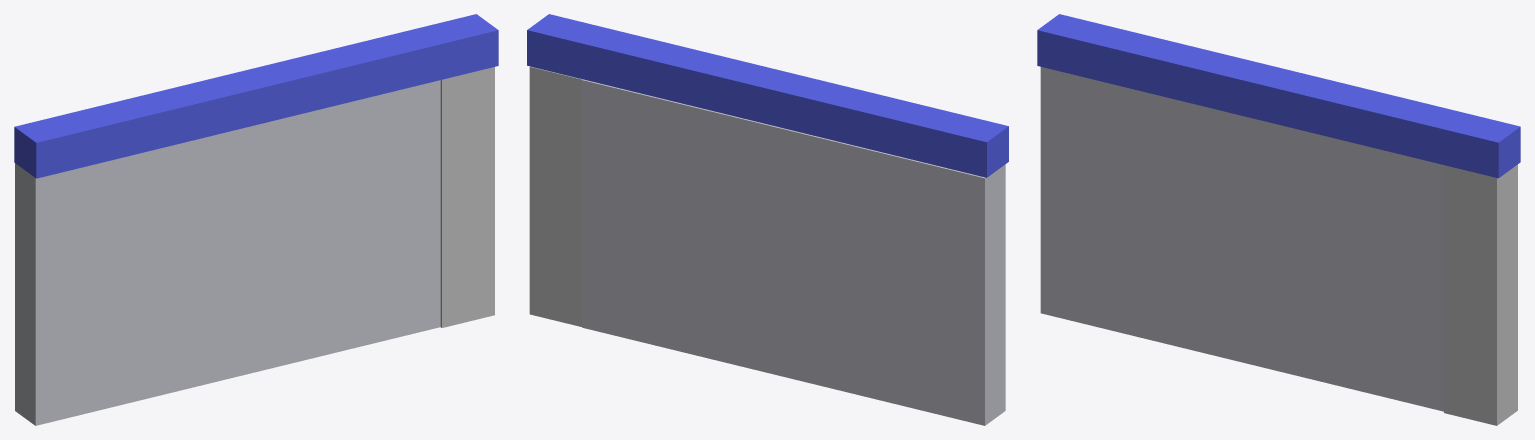
File: window_icon.glb
3 views of the same model, side by side, from view 1: azimuth 30°, elevation 25°; view 2: azimuth 150°, elevation 25°; view 3: azimuth 330°, elevation 25° (orthographic).
Visible parts, largest first — view 1: Box, Box 1, Box 2; view 2: Box, Box 1, Box 2; view 3: Box, Box 1, Box 2.
Part boxes in pixels (x1,y1,x2,y2): Box: (15, 80, 440, 425); Box 1: (14, 14, 498, 178); Box 2: (440, 67, 494, 327); Box: (582, 79, 1005, 425); Box 1: (527, 14, 1008, 177); Box 2: (529, 66, 582, 326); Box: (1040, 67, 1443, 411); Box 1: (1037, 14, 1520, 178); Box 2: (1444, 164, 1517, 425).
Bounding box in the file's own units: 0.0223 × 0.0131 × 0.0019.
